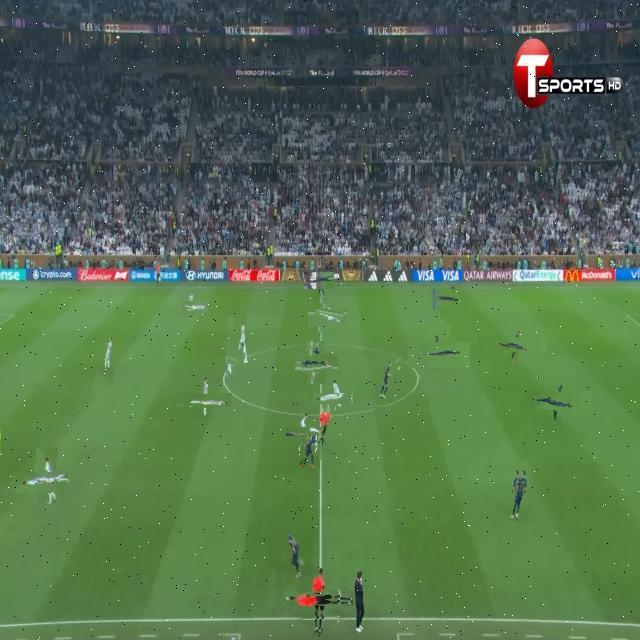ball: (393, 362, 409, 377)
player: (24, 459, 72, 507), (532, 377, 580, 425), (507, 459, 533, 543), (416, 333, 462, 379), (490, 322, 536, 368), (280, 526, 310, 588), (95, 333, 117, 395), (186, 383, 222, 419), (376, 352, 394, 418), (224, 337, 245, 387), (301, 347, 333, 379), (312, 304, 344, 336), (436, 284, 468, 316), (228, 316, 247, 363), (299, 427, 319, 471), (321, 384, 349, 412), (293, 420, 317, 445), (180, 295, 204, 319), (307, 269, 331, 293)
referee: (298, 577, 341, 620), (317, 404, 334, 460)
